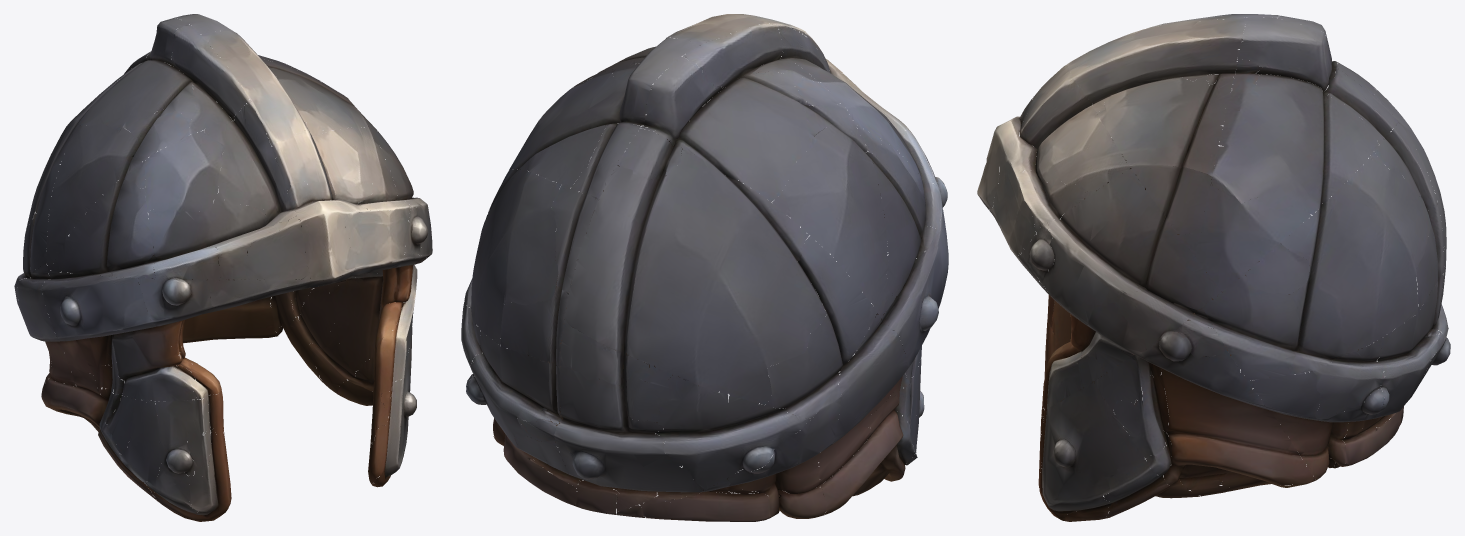
Rendered from helm_n.glb.
3 renders of one model, left to right at view 1: azimuth 30°, elevation 25°; view 2: azimuth 150°, elevation 25°; view 3: azimuth 270°, elevation 25°, orthographic. The views are drawn at different scales.
Visible parts, largest first — view 1: tripo_node_805cb450-ca2d-46ad-91fe-9fde9fd12f63; view 2: tripo_node_805cb450-ca2d-46ad-91fe-9fde9fd12f63; view 3: tripo_node_805cb450-ca2d-46ad-91fe-9fde9fd12f63.
Boxes of the visible parts, left/top/right/bottom form: tripo_node_805cb450-ca2d-46ad-91fe-9fde9fd12f63: left=14, top=14, right=432, bottom=521; tripo_node_805cb450-ca2d-46ad-91fe-9fde9fd12f63: left=461, top=14, right=948, bottom=521; tripo_node_805cb450-ca2d-46ad-91fe-9fde9fd12f63: left=977, top=14, right=1450, bottom=521.
Bounding box in the file's own units: 0.8951 × 0.9794 × 0.9296.
1 material, 1 textured.
